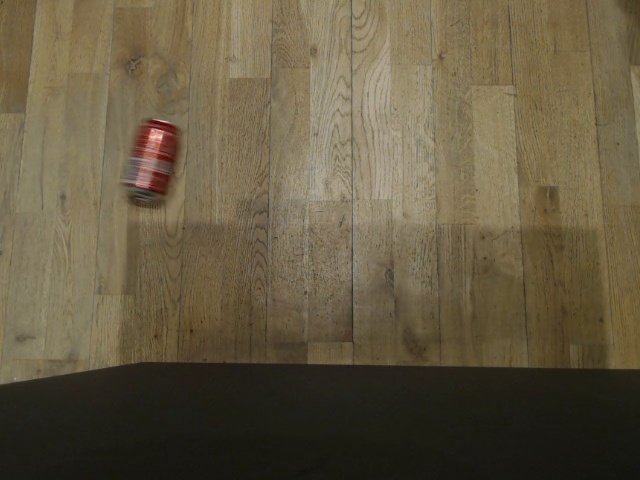coke: (117, 117, 181, 204)
